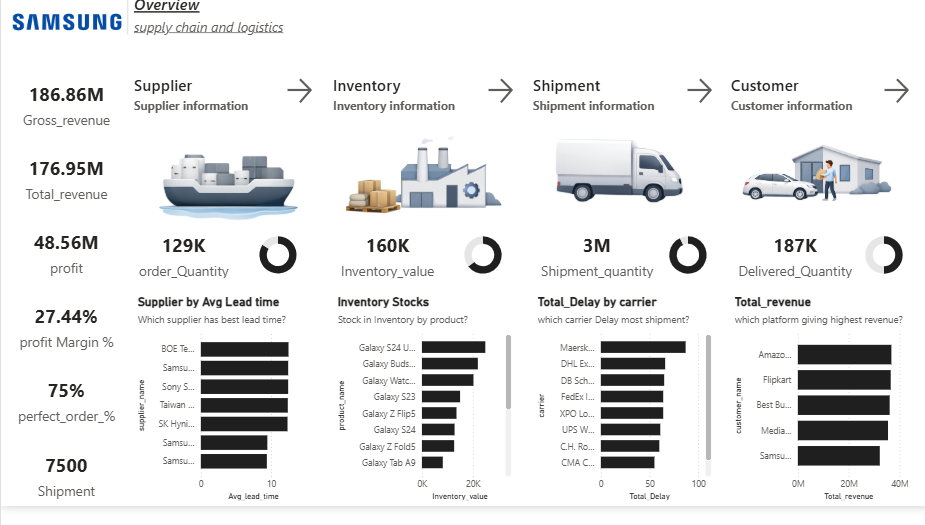

What the dashboard file says about the page in this screenshot:
{"tool":"powerbi","page":{"name":"Page 1","canvas":[1280,720],"ordinal":0},"visuals":[{"type":"shape","box":[183.1,125.2,249.1,199.6],"z":0},{"type":"shape","box":[457.1,125,250,200],"z":1000},{"type":"shape","box":[732.9,125,250,200],"z":2000},{"type":"shape","box":[1004.3,125,250,200],"z":3000},{"type":"image","box":[196.8,206.5,223,126.6],"z":4000},{"type":"image","box":[441.8,181.7,265.6,154.2],"z":5000},{"type":"image","box":[733.6,187.2,229.8,126.6],"z":6000},{"type":"image","box":[1011.6,192.7,232.6,130.8],"z":7000},{"type":"actionButton","box":[388.6,125,44.3,47.1],"z":8000},{"type":"actionButton","box":[1210,125,44.3,47.1],"z":9000},{"type":"actionButton","box":[938.6,125,44.3,47.1],"z":10000},{"type":"actionButton","box":[664.3,125,44.3,47.1],"z":11000},{"type":"shape","title":"Supplier","box":[182.9,125,212.9,67.1],"z":12000},{"type":"shape","title":"Inventory","box":[457.1,125,212.9,67.1],"z":13000},{"type":"shape","title":"Shipment","box":[732.9,125,212.9,67.1],"z":14000},{"type":"shape","title":"Customer","box":[1004.3,125,212.9,67.1],"z":15000},{"type":"shape","title":"Overview","box":[182.9,14.3,351.4,67.1],"z":16000},{"type":"shape","box":[151.4,14.3,45.7,57.1],"z":17000},{"type":"card","fields":{"Values":["Measurestable.Total_revenue"]},"box":[0,228.6,180,80],"z":18000},{"type":"card","fields":{"Values":["Measurestable.profit"]},"box":[0,330.6,180,80],"z":19000},{"type":"card","fields":{"Values":["Measurestable.profit Margin %"]},"box":[0,432.6,180,80],"z":20000},{"type":"card","fields":{"Values":["Measurestable.perfect_order_%"]},"box":[0,534.6,180,80],"z":21000},{"type":"card","fields":{"Values":["Sum(fact_sales.gross_revenue)"]},"box":[0,126.6,180.3,79.8],"z":22000},{"type":"card","fields":{"Values":["Measurestable.Total_shipment"]},"box":[0,636.6,180,80],"z":23000},{"type":"shape","box":[183.1,337.9,250.5,74.3],"z":24000},{"type":"shape","box":[456.9,337.9,250.5,74.3],"z":25000},{"type":"shape","box":[732.2,337.9,250.5,74.3],"z":26000},{"type":"shape","box":[1004.7,337.9,250.5,74.3],"z":27000},{"type":"card","fields":{"Values":["Measurestable.order_qtt"]},"box":[183.1,337.2,136.3,74.3],"z":28000},{"type":"card","fields":{"Values":["Measurestable.Inventory_value"]},"box":[458.3,337.2,147.3,74.3],"z":29000},{"type":"card","fields":{"Values":["Measurestable.Shipment_quantity"]},"box":[733.6,337.2,173.4,74.3],"z":30000},{"type":"card","fields":{"Values":["Measurestable.Delivered_qtt"]},"box":[1008.9,337.2,167.9,74.3],"z":31000},{"type":"barChart","title":"Supplier by Avg Lead time","fields":{"Y":["Measurestable.Avg_lead_time"],"Category":["dim_supplier.supplier_name"]},"box":[183.1,428,249.1,289],"z":32000},{"type":"barChart","title":"Inventory Stocks","fields":{"Y":["Measurestable.Inventory_value"],"Category":["dim_product.product_name"]},"box":[458.3,428,249.1,289],"z":33000},{"type":"barChart","fields":{"Category":["fact_shipment.carrier"],"Y":["Measurestable.Total_Delay"]},"box":[733.6,428,249.1,289],"z":34000},{"type":"barChart","title":"Total_revenue ","fields":{"Category":["dim_customer.customer_name"],"Y":["Measurestable.Total_revenue"]},"box":[1004.7,428,249.1,289],"z":35000},{"type":"donutChart","fields":{"Y":["Measurestable.order_qtt","Measurestable.Defect_rate"]},"box":[342.7,337.2,77,74],"z":36000},{"type":"donutChart","fields":{"Y":["Measurestable.Inventory_value","Measurestable.Safety_stock"]},"box":[624.9,337.2,77,74.3],"z":37000},{"type":"donutChart","fields":{"Y":["Measurestable.Total_shipment","Measurestable.Total_Delay"]},"box":[907,337.2,77,74.3],"z":38000},{"type":"donutChart","fields":{"Y":["Measurestable.Total_qtt_Delayed","Measurestable.Delivered_qtt"]},"box":[1176.8,337.2,77.1,74.3],"z":39000},{"type":"image","box":[14.5,7.9,151.1,90.7],"z":40000}]}

Visuals, with their boxes in screenshot pixels (x1, y1, x2, y2), scaled from the page's 1280x720 canvas onto the 925x525 screenshot:
shape: <box>132,91,312,237</box>
shape: <box>330,91,511,237</box>
shape: <box>530,91,710,237</box>
shape: <box>726,91,906,237</box>
image: <box>142,151,303,243</box>
image: <box>319,132,511,245</box>
image: <box>530,136,696,229</box>
image: <box>731,141,899,236</box>
actionButton: <box>281,91,313,125</box>
actionButton: <box>874,91,906,125</box>
actionButton: <box>678,91,710,125</box>
actionButton: <box>480,91,512,125</box>
"Supplier" shape: <box>132,91,286,140</box>
"Inventory" shape: <box>330,91,484,140</box>
"Shipment" shape: <box>530,91,683,140</box>
"Customer" shape: <box>726,91,880,140</box>
"Overview" shape: <box>132,10,386,59</box>
shape: <box>109,10,142,52</box>
card - Measurestable.Total_revenue: <box>0,167,130,225</box>
card - Measurestable.profit: <box>0,241,130,299</box>
card - Measurestable.profit Margin %: <box>0,315,130,374</box>
card - Measurestable.perfect_order_%: <box>0,390,130,448</box>
card - Sum(fact_sales.gross_revenue): <box>0,92,130,150</box>
card - Measurestable.Total_shipment: <box>0,464,130,523</box>
shape: <box>132,246,313,301</box>
shape: <box>330,246,511,301</box>
shape: <box>529,246,710,301</box>
shape: <box>726,246,907,301</box>
card - Measurestable.order_qtt: <box>132,246,231,300</box>
card - Measurestable.Inventory_value: <box>331,246,438,300</box>
card - Measurestable.Shipment_quantity: <box>530,246,655,300</box>
card - Measurestable.Delivered_qtt: <box>729,246,850,300</box>
"Supplier by Avg Lead time" barChart: <box>132,312,312,523</box>
"Inventory Stocks" barChart: <box>331,312,511,523</box>
barChart - fact_shipment.carrier x Measurestable.Total_Delay: <box>530,312,710,523</box>
"Total_revenue " barChart: <box>726,312,906,523</box>
donutChart - Measurestable.order_qtt x Measurestable.Defect_rate: <box>248,246,303,300</box>
donutChart - Measurestable.Inventory_value x Measurestable.Safety_stock: <box>452,246,507,300</box>
donutChart - Measurestable.Total_shipment x Measurestable.Total_Delay: <box>655,246,711,300</box>
donutChart - Measurestable.Total_qtt_Delayed x Measurestable.Delivered_qtt: <box>850,246,906,300</box>
image: <box>10,6,120,72</box>
